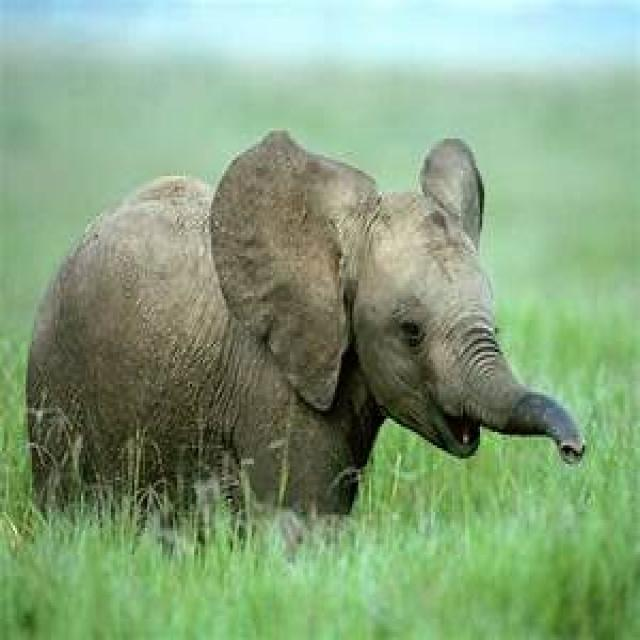elephant: (23, 131, 587, 520)
